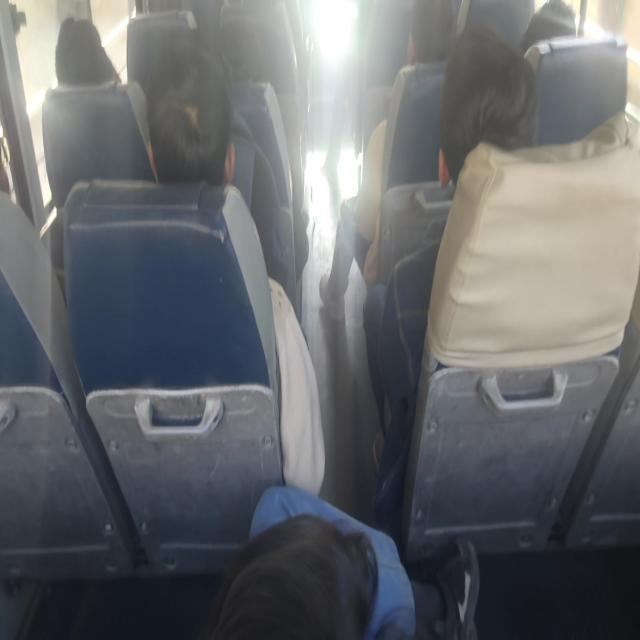person: (364, 20, 539, 520), (144, 34, 326, 497), (319, 0, 456, 318), (145, 35, 288, 296), (250, 484, 480, 639), (41, 16, 154, 209), (210, 512, 378, 638), (438, 20, 539, 188), (145, 35, 236, 185), (54, 16, 120, 86)
